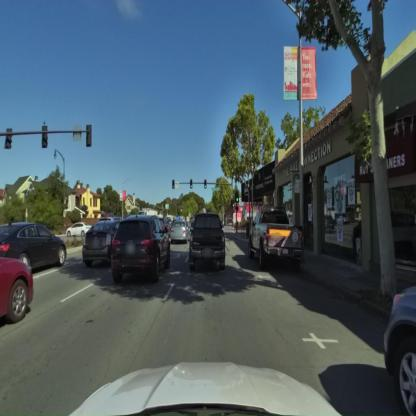car: (372, 275, 415, 415), (109, 215, 172, 284), (0, 222, 68, 273), (0, 252, 34, 327), (82, 218, 124, 268), (170, 219, 191, 245), (68, 222, 94, 238)
truck: (245, 193, 306, 280), (188, 214, 226, 273)
